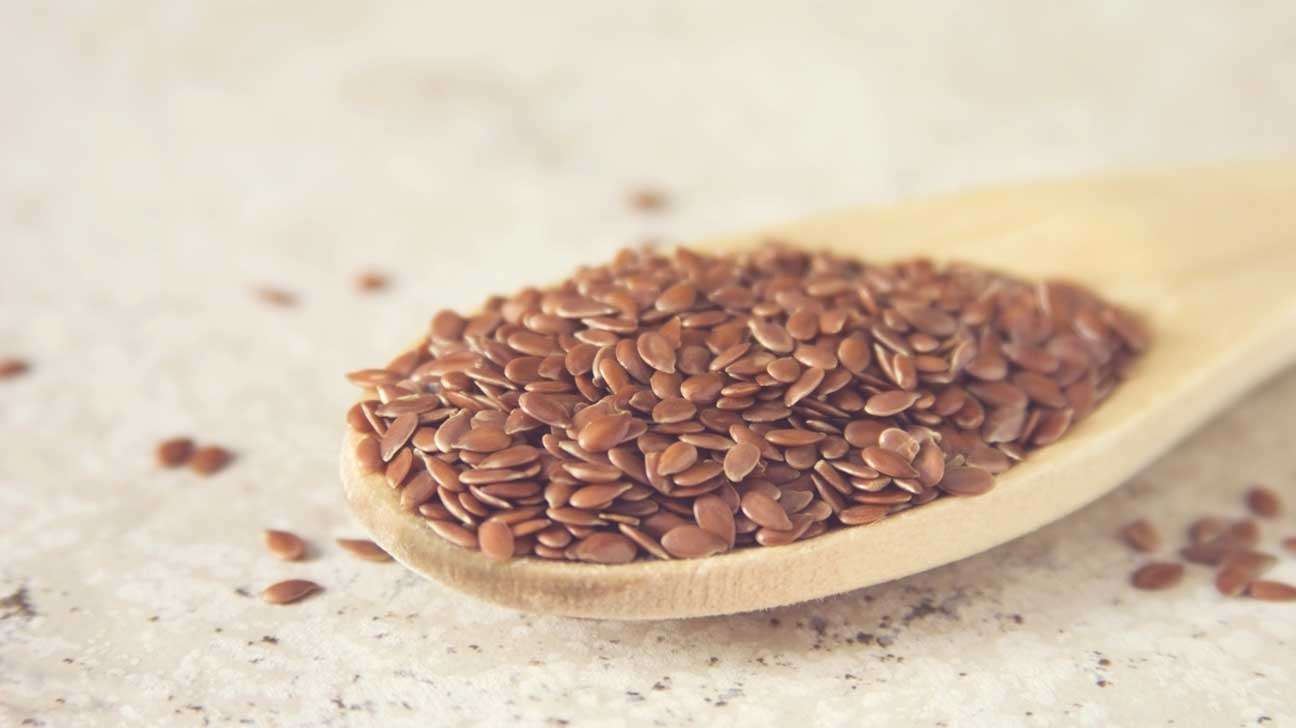seed: (298, 209, 1222, 596)
